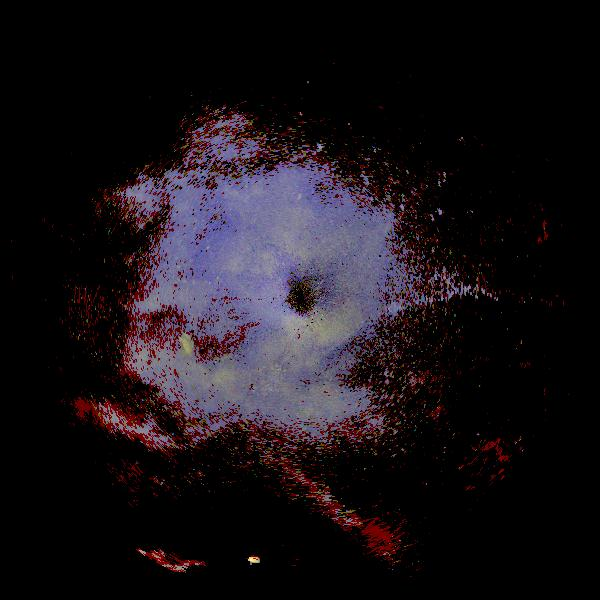roost: (130, 324, 211, 405)
